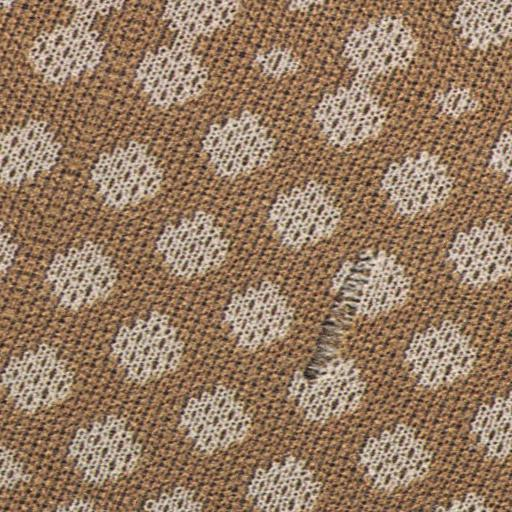slub: (287, 243, 393, 394)
